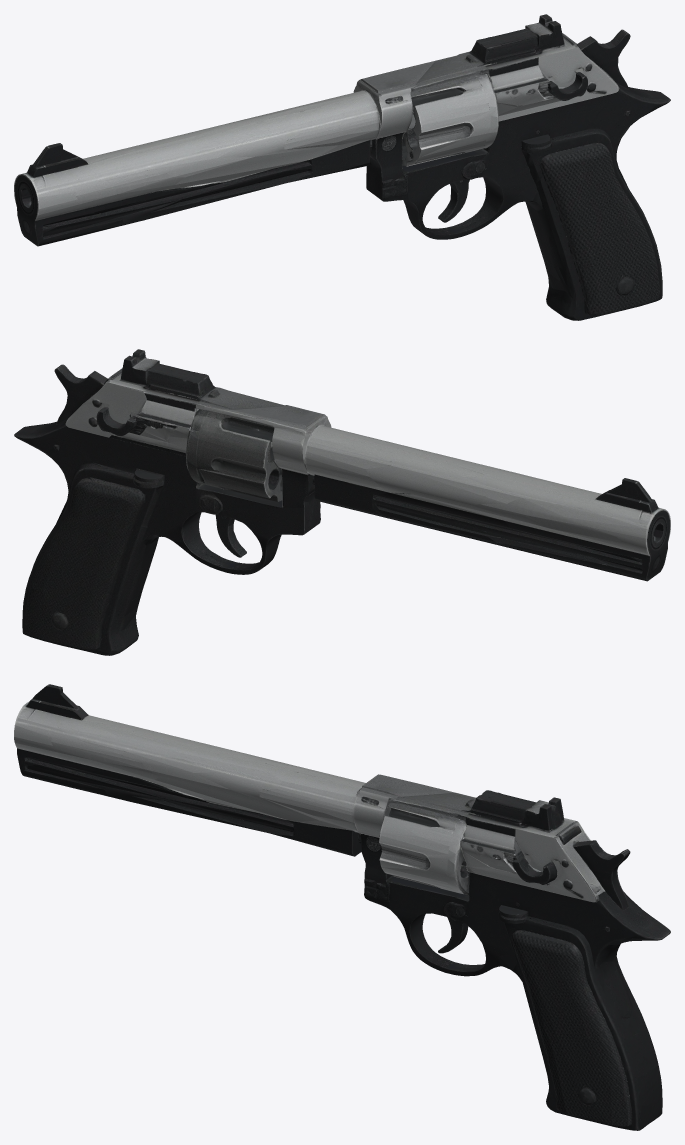
Rendered from deagle.glb.
The picture shows the model from 3 angles, top to bottom: view 1: azimuth 30°, elevation 25°; view 2: azimuth 150°, elevation 25°; view 3: azimuth 330°, elevation 25°; orthographic projection.
Size of the model in its own units: 1.9 by 0.8418 by 0.223.
1 material, 1 textured.
